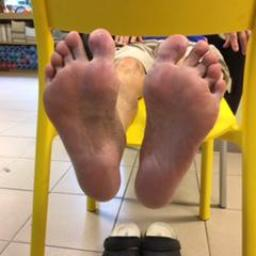Plantar View -Both Feet-: (30, 15, 237, 221)
